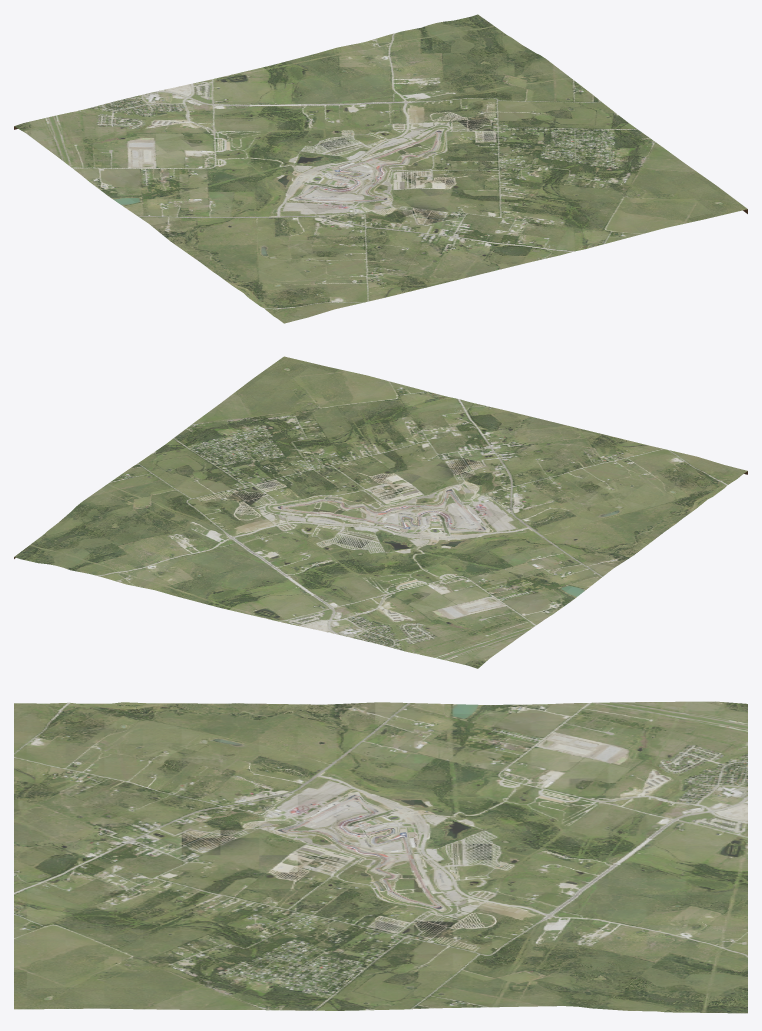
Rendered from 19_united_states_gp.glb.
3 views of the same model, one above another, from view 1: azimuth 30°, elevation 25°; view 2: azimuth 150°, elevation 25°; view 3: azimuth 270°, elevation 25° (orthographic). The views are drawn at different scales.
Parts seen in each view (by area): view 1: tinMesh; view 2: tinMesh; view 3: tinMesh.
Part boxes in pixels (x1=…): tinMesh: x1=14, y1=14, x2=747, y2=323; tinMesh: x1=14, y1=356, x2=747, y2=668; tinMesh: x1=14, y1=701, x2=747, y2=1013.
Size of the model in its own units: 5742 by 101 by 5788.
Materials: 2 (2 with a texture image).
